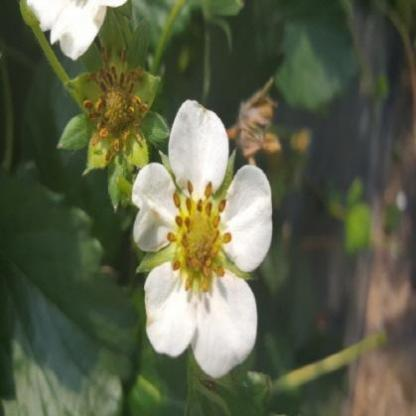Strawberry_Blossom_Blight: (78, 44, 150, 164), (164, 178, 235, 296)
